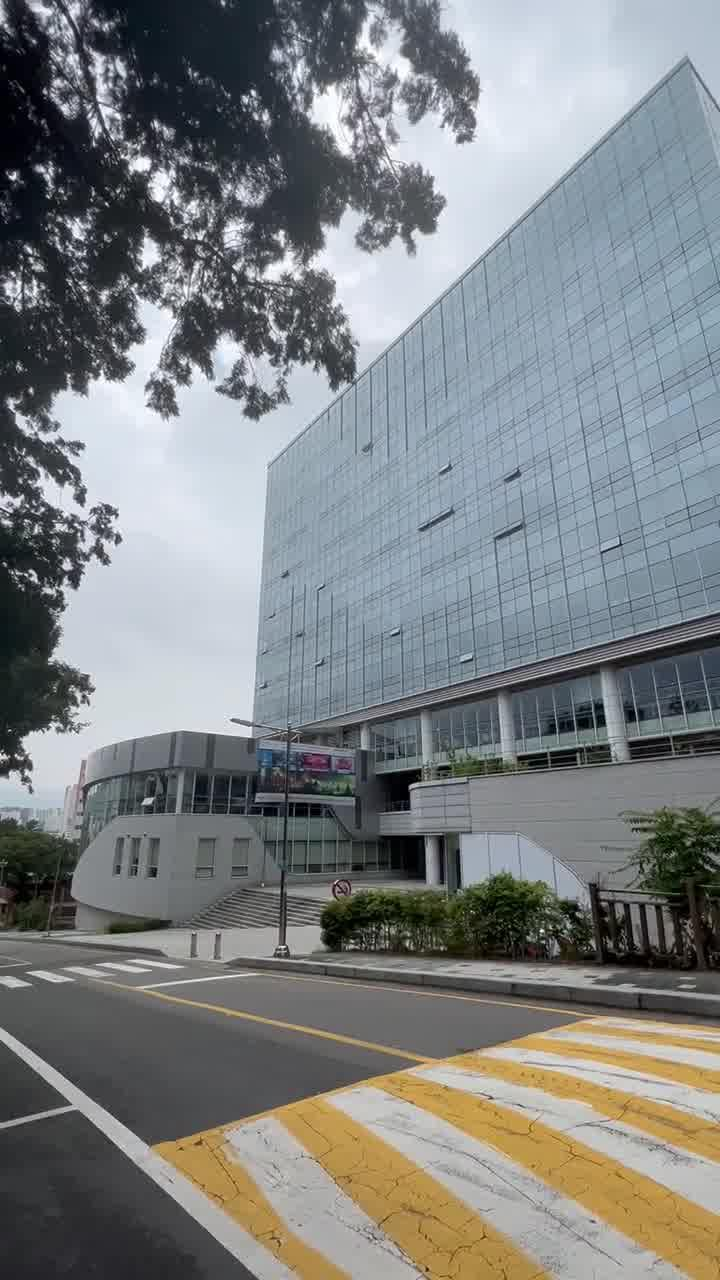building: (262, 322, 720, 760)
